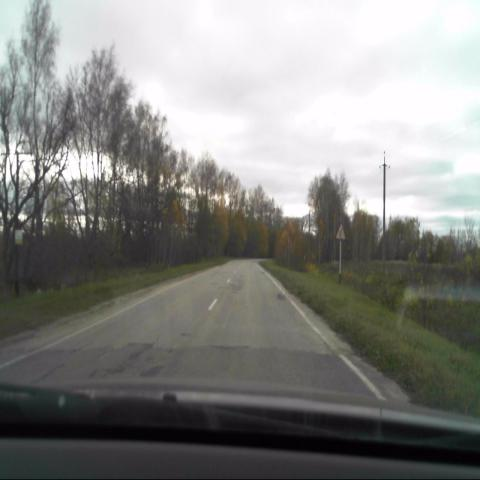1_11: (335, 222, 346, 242)
